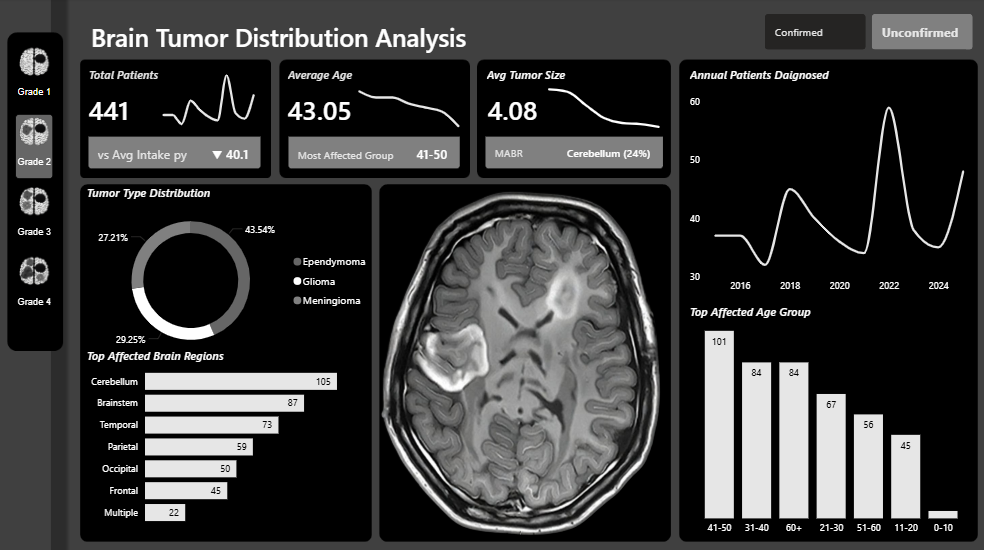

Layout of this report page (visuals, bound fields, positions):
{"tool":"powerbi","page":{"name":"Page 1","canvas":[1280,720],"ordinal":0},"visuals":[{"type":"cardVisual","fields":{"Data":["Count(Brain Tumor Data.Patient ID)"]},"box":[92.1,96.4,137.5,89.3],"z":0},{"type":"lineChart","fields":{"Category":["Brain Tumor Data.Date of Diagnosis.Variation.Date Hierarchy.Year"],"Y":["CountNonNull(Brain Tumor Data.Patient ID)"]},"box":[202.7,83.6,146,89.3],"z":1000},{"type":"cardVisual","fields":{"Data":["Count(Brain Tumor Data.Patient ID)"]},"box":[92.1,83.6,280.6,165.8],"z":2000},{"type":"textbox","box":[116.2,83.6,113.4,45.4],"z":3000},{"type":"cardVisual","fields":{"Data":["Avg(Brain Tumor Data.Age)"]},"box":[348.7,96.4,151.7,89.3],"z":4000},{"type":"lineChart","fields":{"Y":["CountNonNull(Brain Tumor Data.Patient ID)"],"Category":["Brain Tumor Data.Age Group"]},"box":[456.4,83.6,154.5,89.3],"z":5000},{"type":"cardVisual","fields":{"Data":["Count(Brain Tumor Data.Patient ID)"]},"box":[350.1,83.6,279.2,165.8],"z":6000},{"type":"textbox","box":[372.8,83.6,113.4,45.4],"z":7000},{"type":"textbox","box":[629.3,83.6,113.4,45.4],"z":8000},{"type":"cardVisual","fields":{"Data":["Count(Brain Tumor Data.Patient ID)"]},"box":[603.8,83.6,287.7,165.8],"z":9000},{"type":"cardVisual","fields":{"Data":["Avg(Brain Tumor Data.Tumor Size (cm))"]},"box":[606.6,96.4,141.7,89.3],"z":10000},{"type":"lineChart","fields":{"Y":["Avg(Brain Tumor Data.Tumor Size (cm))"],"Category":["Brain Tumor Data.Affected Brain Region"]},"box":[700.2,83.6,170.1,89.3],"z":11000},{"type":"advancedSlicerVisual","fields":{"Values":["Brain Tumor Data.Histology Confirmation"]},"box":[987.9,15.6,279.2,56.7],"z":12000},{"type":"ChicletSlicer1448559807354","fields":{"Category":["Tumor Images.Tumor Grade"],"Image":["Tumor Images.Icon URL"]},"box":[18.4,51,73.7,395.4],"z":13000},{"type":"imageDB603108E3FF4EBFB8047F5653368E8C","fields":{"imageUrl":["Tumor Images.Image URL"]},"box":[490.4,236.7,379.8,464.9],"z":14000},{"type":"donutChart","fields":{"Category":["Brain Tumor Data.Tumor Type"],"Y":["CountNonNull(Brain Tumor Data.Patient ID)"]},"box":[116.2,249.4,377,231],"z":15000},{"type":"textbox","box":[113.4,236.7,177.2,45.4],"z":16000},{"type":"clusteredBarChart","fields":{"Category":["Brain Tumor Data.Affected Brain Region"],"Y":["CountNonNull(Brain Tumor Data.Patient ID)"]},"box":[113.4,459.2,367.1,232.4],"z":17000},{"type":"textbox","box":[113.4,446.5,205.5,45.4],"z":18000},{"type":"lineChart","fields":{"Y":["CountNonNull(Brain Tumor Data.Patient ID)"],"Category":["Brain Tumor Data.Date of Diagnosis.Variation.Date Hierarchy.Year"]},"box":[891.5,120.5,375.6,269.3],"z":19000},{"type":"textbox","box":[891.5,83.6,205.5,36.9],"z":20000},{"type":"clusteredColumnChart","fields":{"Category":["Brain Tumor Data.Age Group"],"Y":["CountNonNull(Brain Tumor Data.Patient ID)"]},"box":[891.5,389.8,375.6,311.8],"z":21000},{"type":"textbox","box":[891.5,389.8,188.5,39.7],"z":22000},{"type":"textbox","box":[119.1,22.7,521.6,60.9],"z":22001}]}

Visuals, with their boxes in screenshot pixels (x1, y1, x2, y2), scaled from the page's 1280x720 canvas onto the 984x550 screenshot:
cardVisual - Count(Brain Tumor Data.Patient ID): x1=71, y1=74, x2=177, y2=142
lineChart - Brain Tumor Data.Date of Diagnosis.Variation.Date Hierarchy.Year x CountNonNull(Brain Tumor Data.Patient ID): x1=156, y1=64, x2=268, y2=132
cardVisual - Count(Brain Tumor Data.Patient ID): x1=71, y1=64, x2=287, y2=191
textbox: x1=89, y1=64, x2=177, y2=99
cardVisual - Avg(Brain Tumor Data.Age): x1=268, y1=74, x2=385, y2=142
lineChart - CountNonNull(Brain Tumor Data.Patient ID) x Brain Tumor Data.Age Group: x1=351, y1=64, x2=470, y2=132
cardVisual - Count(Brain Tumor Data.Patient ID): x1=269, y1=64, x2=484, y2=191
textbox: x1=287, y1=64, x2=374, y2=99
textbox: x1=484, y1=64, x2=571, y2=99
cardVisual - Count(Brain Tumor Data.Patient ID): x1=464, y1=64, x2=685, y2=191
cardVisual - Avg(Brain Tumor Data.Tumor Size (cm)): x1=466, y1=74, x2=575, y2=142
lineChart - Avg(Brain Tumor Data.Tumor Size (cm)) x Brain Tumor Data.Affected Brain Region: x1=538, y1=64, x2=669, y2=132
advancedSlicerVisual - Brain Tumor Data.Histology Confirmation: x1=759, y1=12, x2=974, y2=55
ChicletSlicer1448559807354 - Tumor Images.Tumor Grade x Tumor Images.Icon URL: x1=14, y1=39, x2=71, y2=341
imageDB603108E3FF4EBFB8047F5653368E8C - Tumor Images.Image URL: x1=377, y1=181, x2=669, y2=536
donutChart - Brain Tumor Data.Tumor Type x CountNonNull(Brain Tumor Data.Patient ID): x1=89, y1=191, x2=379, y2=367
textbox: x1=87, y1=181, x2=223, y2=215
clusteredBarChart - Brain Tumor Data.Affected Brain Region x CountNonNull(Brain Tumor Data.Patient ID): x1=87, y1=351, x2=369, y2=528
textbox: x1=87, y1=341, x2=245, y2=376
lineChart - CountNonNull(Brain Tumor Data.Patient ID) x Brain Tumor Data.Date of Diagnosis.Variation.Date Hierarchy.Year: x1=685, y1=92, x2=974, y2=298
textbox: x1=685, y1=64, x2=843, y2=92
clusteredColumnChart - Brain Tumor Data.Age Group x CountNonNull(Brain Tumor Data.Patient ID): x1=685, y1=298, x2=974, y2=536
textbox: x1=685, y1=298, x2=830, y2=328
textbox: x1=92, y1=17, x2=493, y2=64
